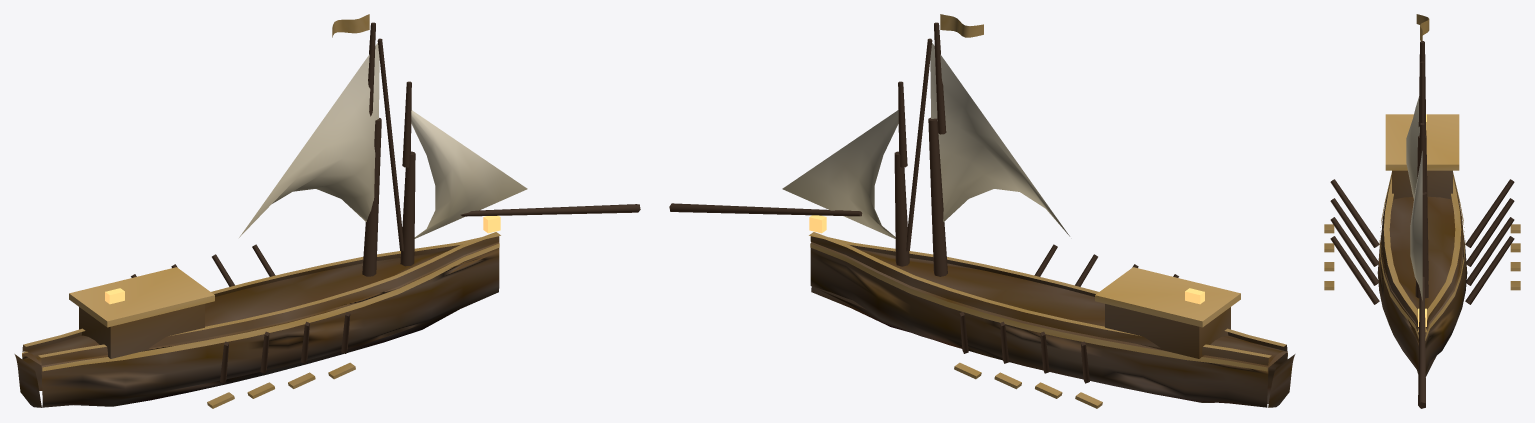
File: garden-hero-brigantine.glb
3 renders of one model, left to right at view 1: azimuth 30°, elevation 25°; view 2: azimuth 150°, elevation 25°; view 3: azimuth 270°, elevation 25°, orthographic. The views are drawn at different scales.
Parts seen in each view (by area): view 1: wood-hull, sail-hull, spar-hull, trim-hull, glow-hull; view 2: wood-hull, sail-hull, spar-hull, trim-hull, glow-hull; view 3: wood-hull, spar-hull, trim-hull, sail-hull.
Boxes of the visible parts, x1,y1,x2,y2 form: wood-hull: (14,14,500,408); sail-hull: (239,43,527,238); spar-hull: (131,22,640,383); trim-hull: (22,243,499,371); glow-hull: (105,215,500,304); wood-hull: (809,14,1295,408); sail-hull: (782,43,1069,238); spar-hull: (669,22,1178,383); trim-hull: (810,243,1287,371); glow-hull: (809,215,1204,304); wood-hull: (1324,14,1520,376); spar-hull: (1330,41,1514,408); trim-hull: (1379,114,1465,340); sail-hull: (1406,96,1422,300).
Size of the model in its own units: 13.7 by 7.07 by 3.94.
